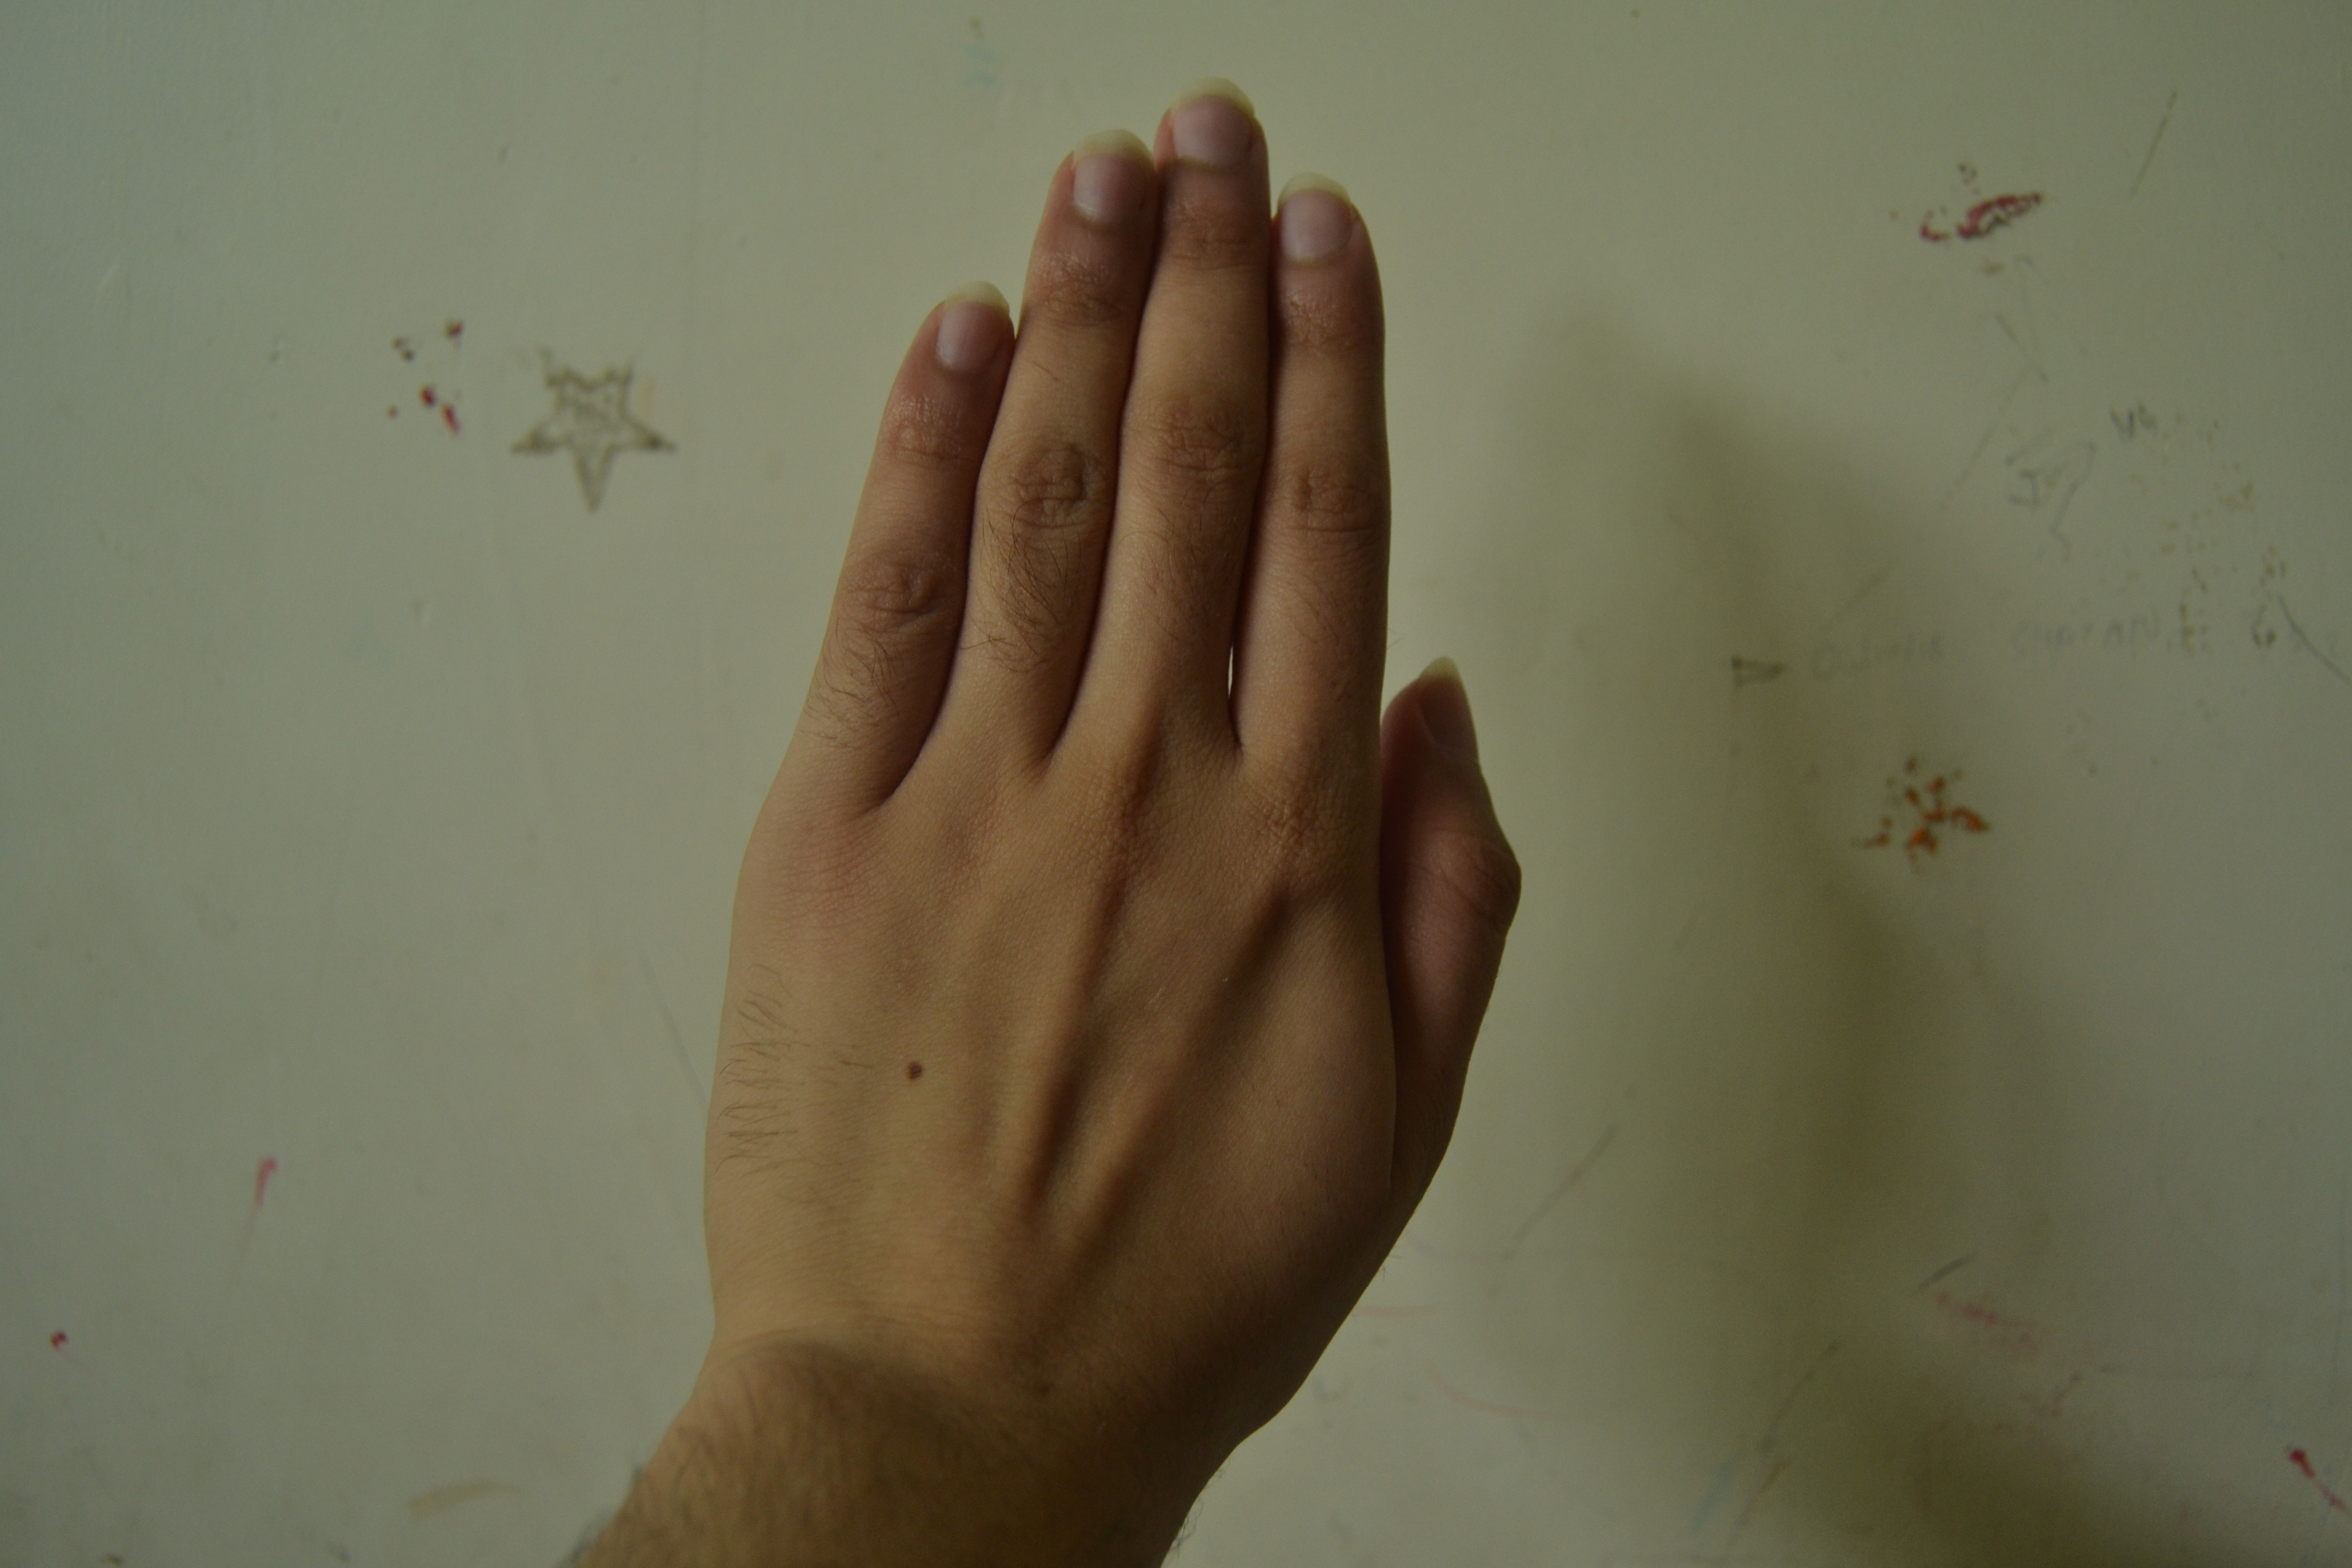move: (705, 72, 1547, 1405)
